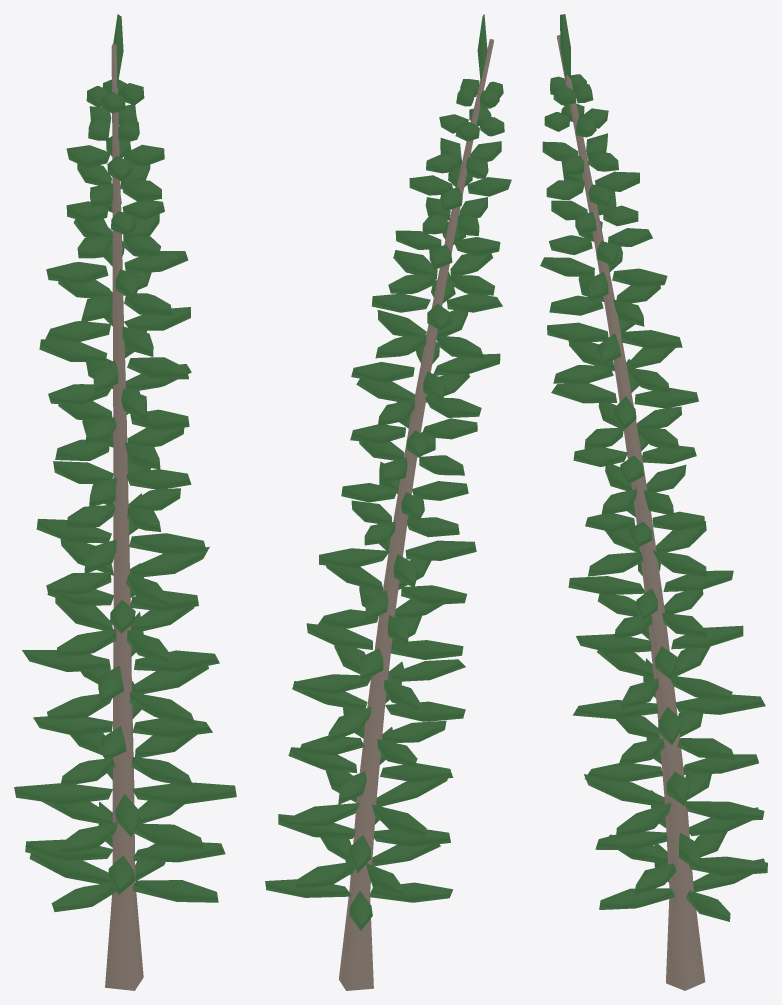
File: Blender_CookPine_1_Far.glb
The picture shows the model from 3 angles, left to right: view 1: azimuth 30°, elevation 25°; view 2: azimuth 150°, elevation 25°; view 3: azimuth 270°, elevation 25°; orthographic projection. The views are drawn at different scales.
Parts seen in each view (by area): view 1: Blender_CookPine_1_Far; view 2: Blender_CookPine_1_Far; view 3: Blender_CookPine_1_Far.
Boxes of the visible parts, x1=… form: Blender_CookPine_1_Far: x1=14, y1=14, x2=236, y2=990; Blender_CookPine_1_Far: x1=265, y1=14, x2=511, y2=990; Blender_CookPine_1_Far: x1=540, y1=14, x2=767, y2=990.
Size of the model in its own units: 7.66 by 39.06 by 8.61.
